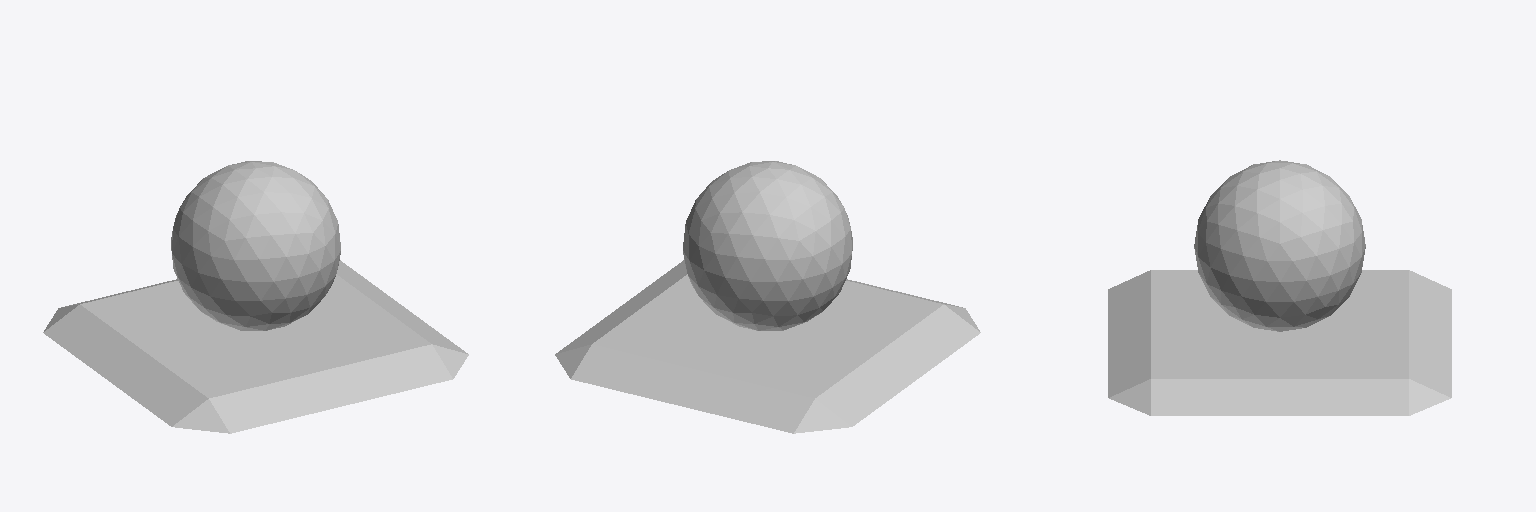
File: tesselation test.obj
3 views of the same model, side by side, from view 1: azimuth 30°, elevation 25°; view 2: azimuth 150°, elevation 25°; view 3: azimuth 270°, elevation 25° (orthographic).
Parts seen in each view (by area): view 1: Icosphere; view 2: Icosphere; view 3: Icosphere.
Boxes of the visible parts, box(x1,y1,x2,y2) form: Icosphere: box(43, 161, 468, 433); Icosphere: box(555, 161, 980, 433); Icosphere: box(1108, 160, 1451, 415).
Size of the model in its own units: 4 by 2.25 by 4.